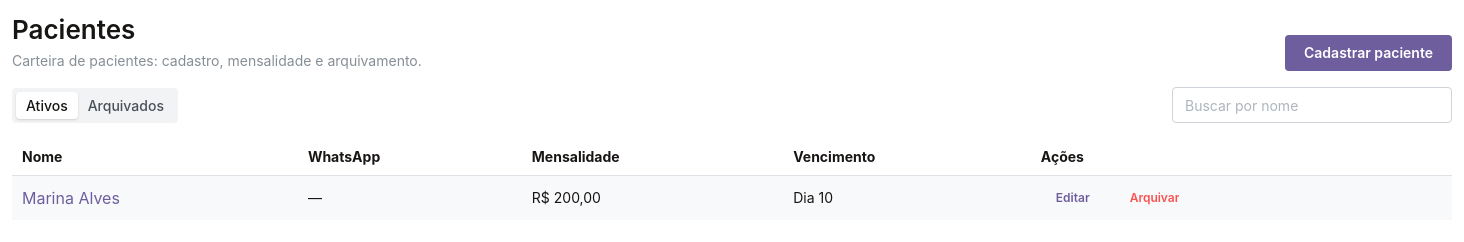
Test: PatientsListPage › mostra estado vazio de busca sem resultados
The width and height of the screenshot is (1464, 242).
Check: the link "Marina Alves" is shown, box [22,188,120,208]
Type "Zzz" into the field named "Buscar paciente por nome".
click(1312, 105); type("Zzz")  # box [1172,87,1452,123]
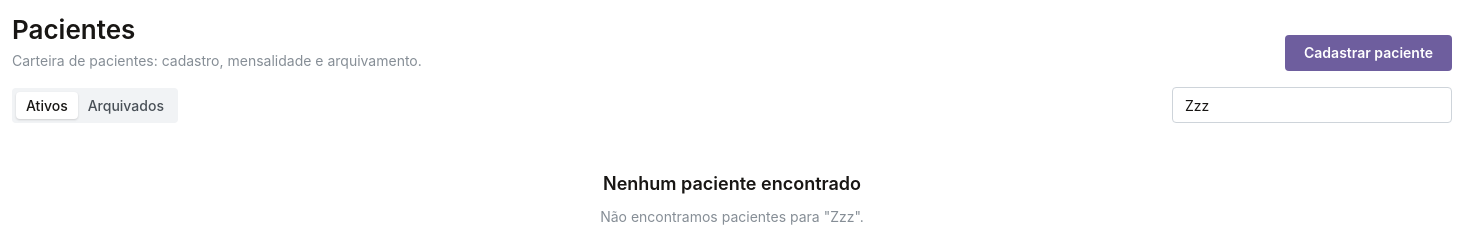
Check: the heading "Nenhum paciente encontrado" is shown, box [603,171,861,198]
